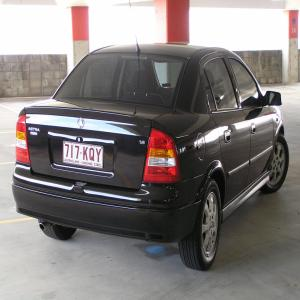Vehicle-registration-plate: (57, 139, 105, 175)
